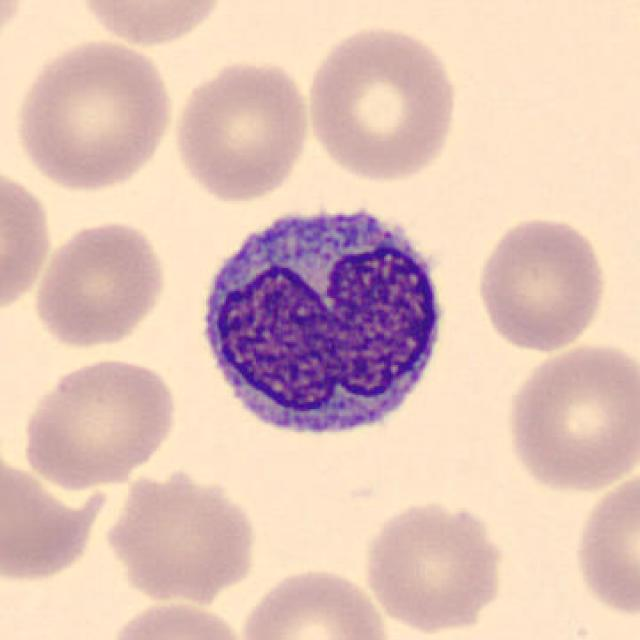Lymphocyte: (187, 187, 457, 455)
Monocyte: (187, 189, 457, 455)
RBC: (9, 35, 176, 194), (300, 22, 462, 184), (100, 464, 262, 604), (16, 353, 181, 490), (169, 54, 315, 204), (502, 339, 638, 497), (359, 496, 509, 636), (471, 212, 612, 356), (30, 215, 171, 351), (0, 462, 112, 589), (235, 562, 396, 640), (569, 466, 638, 620), (0, 162, 57, 319), (71, 0, 231, 49), (101, 596, 251, 640), (0, 1, 34, 62)
